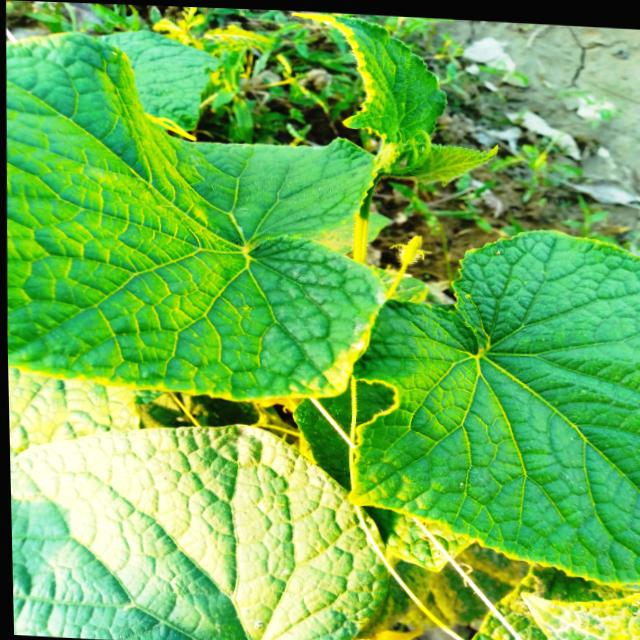Fresh-Leaf: (6, 30, 385, 403), (350, 231, 640, 587), (299, 16, 446, 143)
